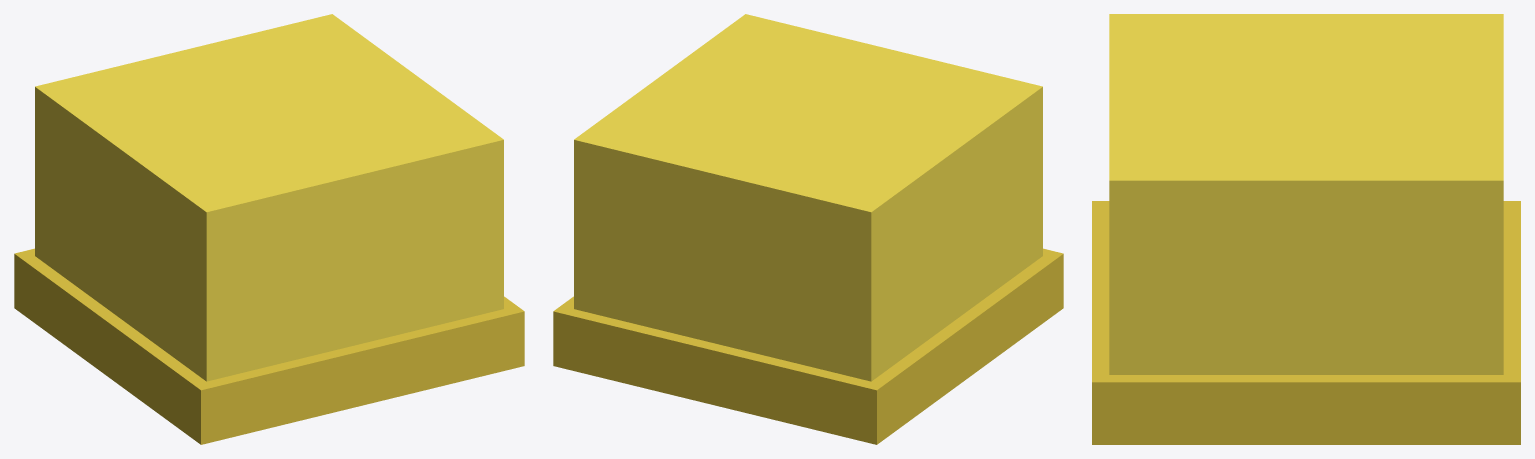
File: pescador_manga_inf.glb
3 renders of one model, left to right at view 1: azimuth 30°, elevation 25°; view 2: azimuth 150°, elevation 25°; view 3: azimuth 270°, elevation 25°, orthographic. The views are drawn at different scales.
Parts seen in each view (by area): view 1: pescador_manga_inf; view 2: pescador_manga_inf; view 3: pescador_manga_inf.
Boxes of the visible parts, left/top/right/bottom form: pescador_manga_inf: left=14, top=14, right=524, bottom=444; pescador_manga_inf: left=553, top=14, right=1063, bottom=444; pescador_manga_inf: left=1092, top=14, right=1520, bottom=444.
Bounding box in the file's own units: 0.31 × 0.21 × 0.31.
